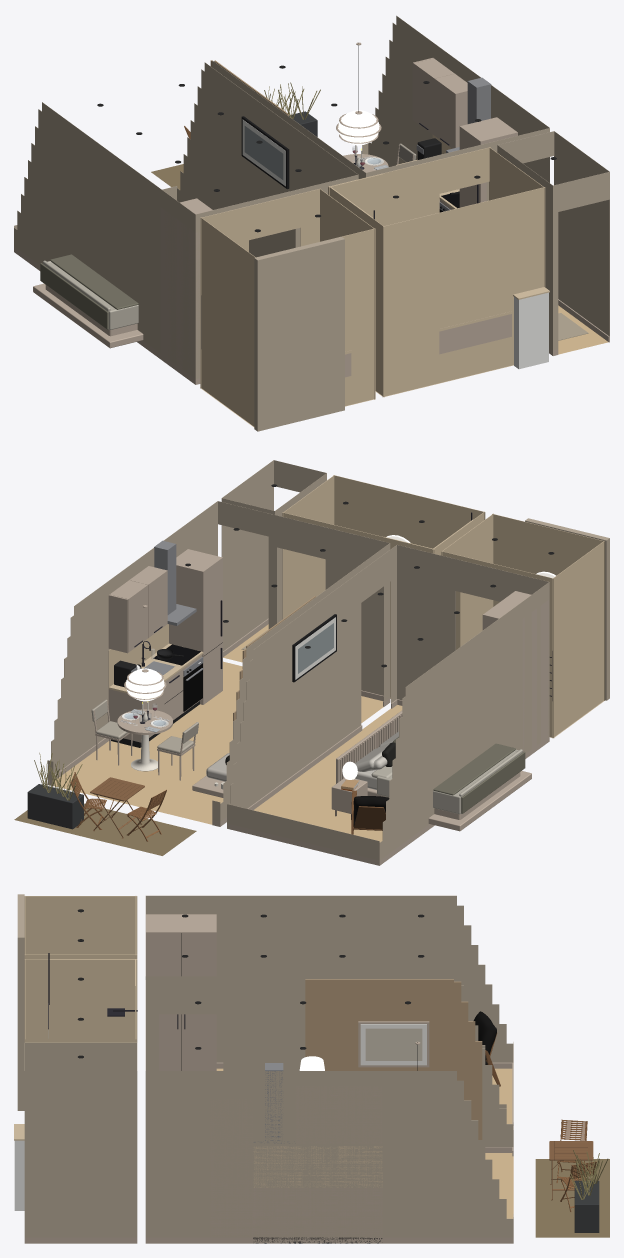
The model's file is unit-2.A-natura.glb.
The picture shows the model from 3 angles, top to bottom: view 1: azimuth 30°, elevation 25°; view 2: azimuth 150°, elevation 25°; view 3: azimuth 270°, elevation 25°; orthographic projection. The views are drawn at different scales.
Visible parts, largest first — view 1: int-wall, int-bathWall, int-joineryTall, int-joinery, int-bedThrow, int-wood, int-whiteGloss, int-showerWall, int-duvet, int-steel, int-paperLamp, int-art:6:1 (+6 smaller); view 2: int-wall, int-bathWall, int-floor, int-joineryTall, int-joinery, int-wood, int-deck, int-skirting, int-bedThrow, int-outdoor, int-steel, int-duvet (+15 smaller); view 3: int-wall, int-feature, int-joineryTall, int-bathWall, int-joinery, int-showerWall, int-deck, int-skirting, int-splash, int-art:5:2, int-floor, int-outdoor (+9 smaller).
Boxes of the visible parts, left/top/right/bottom form: int-wall: left=14, top=15, right=609, bottom=431; int-bathWall: left=200, top=147, right=545, bottom=426; int-joineryTall: left=160, top=117, right=517, bottom=383; int-joinery: left=412, top=58, right=467, bottom=209; int-bedThrow: left=40, top=254, right=138, bottom=329; int-wood: left=33, top=42, right=388, bottom=348; int-whiteGloss: left=514, top=292, right=548, bottom=369; int-showerWall: left=328, top=174, right=383, bottom=225; int-duvet: left=43, top=260, right=138, bottom=329; int-steel: left=416, top=77, right=491, bottom=211; int-paperLamp: left=338, top=110, right=379, bottom=145; int-art:6:1: left=244, top=126, right=283, bottom=179; int-wall: left=47, top=460, right=609, bottom=860; int-bathWall: left=282, top=475, right=604, bottom=737; int-floor: left=54, top=661, right=402, bottom=842; int-joineryTall: left=169, top=549, right=548, bottom=751; int-joinery: left=108, top=566, right=202, bottom=742; int-wood: left=117, top=605, right=531, bottom=831; int-deck: left=14, top=803, right=196, bottom=855; int-skirting: left=47, top=618, right=549, bottom=865; int-bedThrow: left=433, top=743, right=525, bottom=813; int-outdoor: left=27, top=784, right=83, bottom=829; int-steel: left=131, top=540, right=203, bottom=680; int-duvet: left=371, top=749, right=522, bottom=814; int-wall: left=17, top=894, right=513, bottom=1237; int-feature: left=305, top=979, right=482, bottom=1139; int-joineryTall: left=146, top=914, right=252, bottom=1243; int-bathWall: left=24, top=896, right=137, bottom=1042; int-joinery: left=253, top=1086, right=382, bottom=1237; int-showerWall: left=48, top=959, right=137, bottom=1038; int-deck: left=535, top=1159, right=609, bottom=1237; int-skirting: left=24, top=1062, right=513, bottom=1243; int-splash: left=253, top=1146, right=382, bottom=1185; int-art:5:2: left=365, top=1028, right=422, bottom=1060; int-floor: left=216, top=1068, right=513, bottom=1218; int-outdoor: left=574, top=1180, right=599, bottom=1232.
Bounding box in the file's own units: 6.41 × 2.8 × 8.41.
